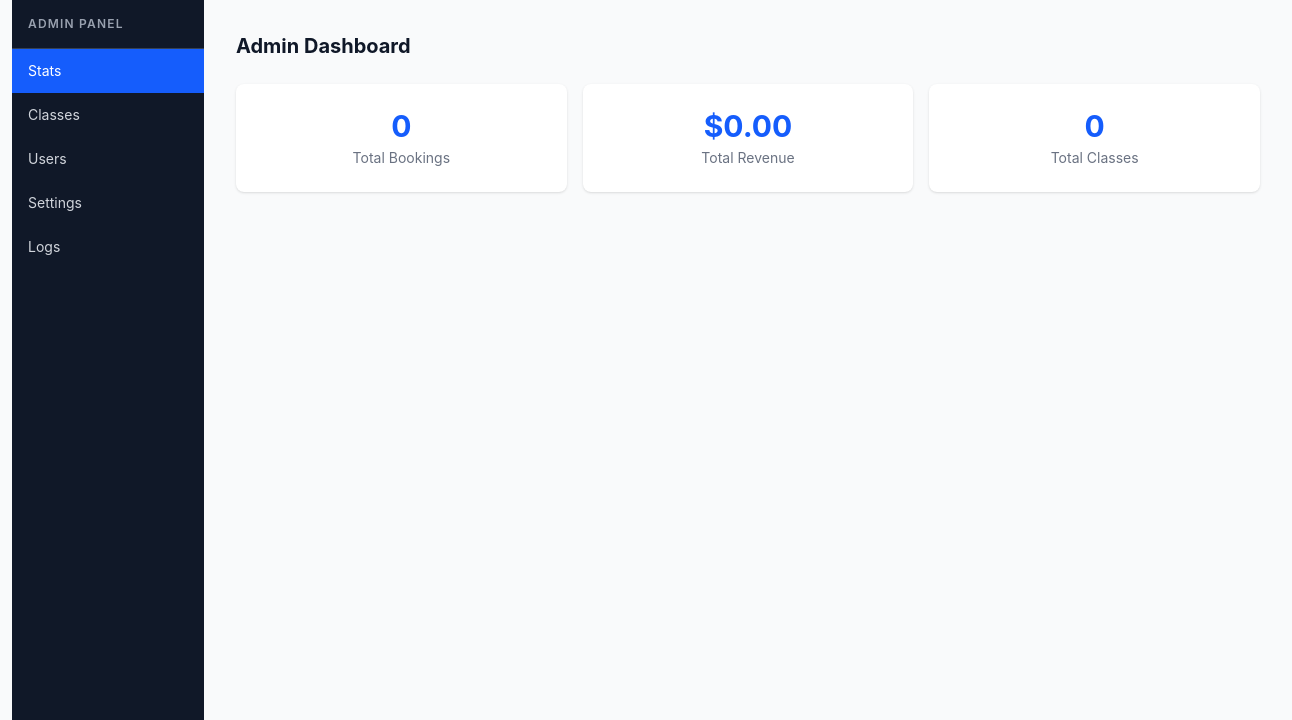
Test: Admin Logs tab › filters to error logs when Error pill is clicked
Click the button "Logs".
click(108, 247)  # box [12,225,204,269]
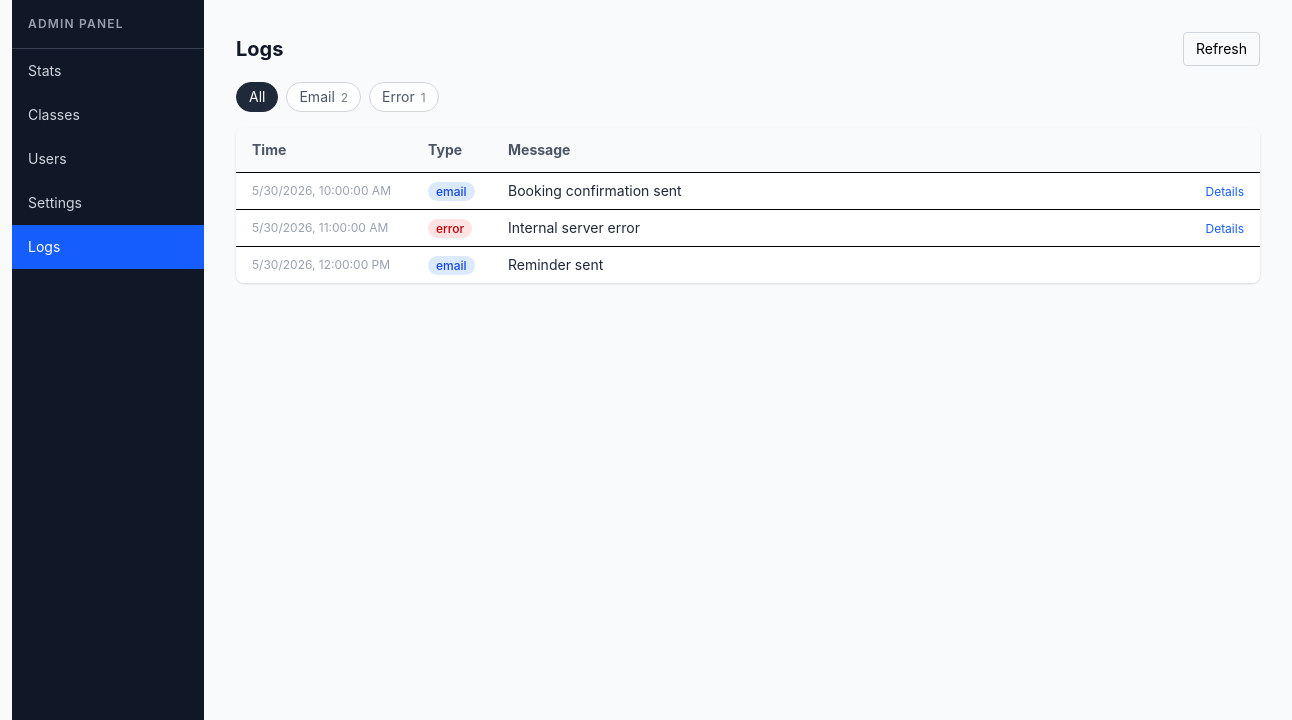
Now the text "Booking confirmation sent" is shown, box [492,172,1180,210]
Click the button "Error1".
click(404, 97)  # box [369,82,439,112]
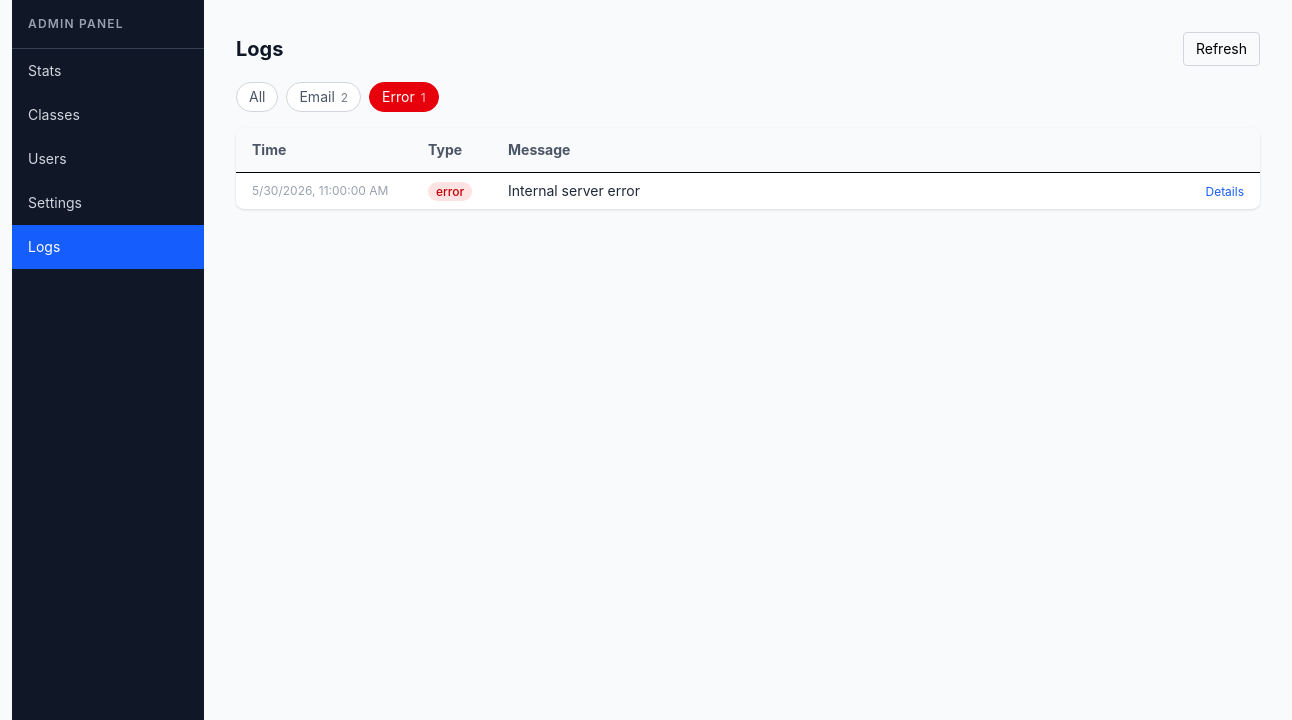
Now the text "Internal server error" is shown, box [492,172,1180,209]
Now the text "Booking confirmation sent" is gone
